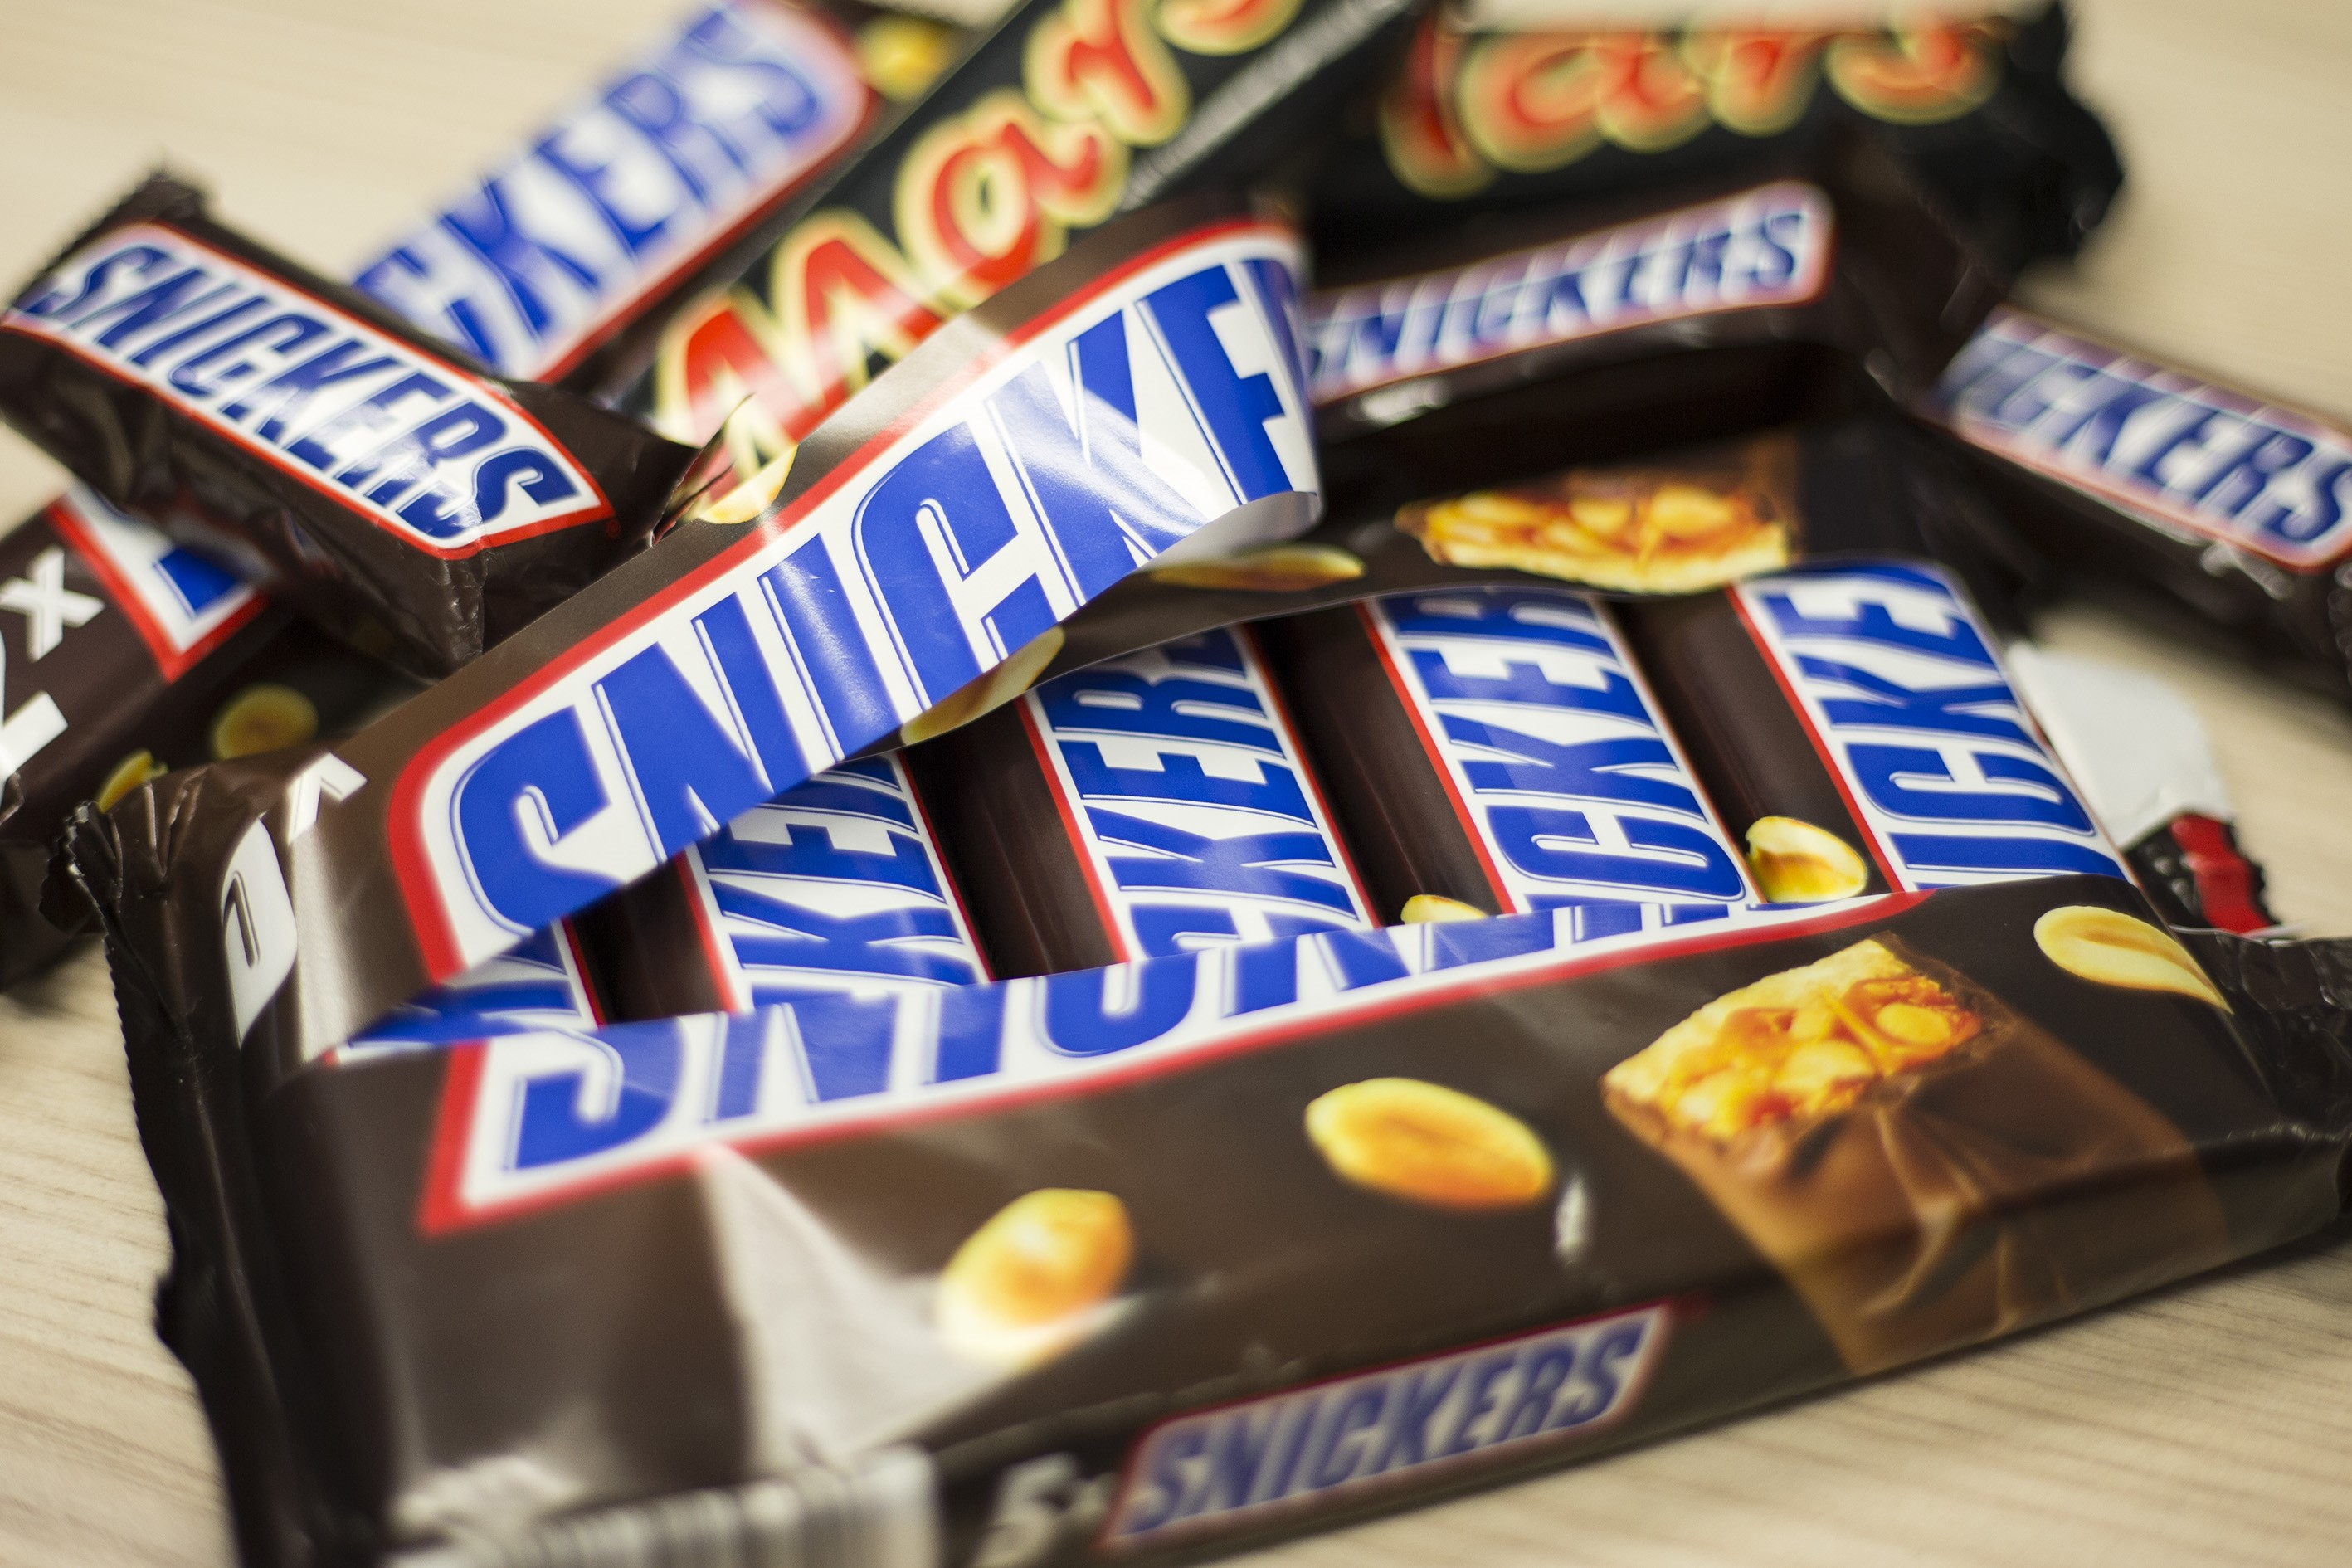snickers: (381, 254, 1298, 945), (381, 324, 1363, 945), (451, 254, 1298, 927), (91, 10, 878, 588), (91, 10, 822, 616), (12, 205, 574, 535), (21, 240, 574, 535), (1746, 528, 2121, 882), (1374, 549, 1746, 891), (1748, 567, 2121, 882), (1120, 1314, 1643, 1536), (1379, 579, 1746, 891), (1914, 289, 2347, 546), (1032, 628, 1353, 962), (1036, 625, 1353, 962), (1914, 301, 2347, 546), (1934, 301, 2347, 546), (1284, 201, 1801, 374), (1307, 201, 1801, 371), (682, 719, 980, 999), (1150, 1314, 1643, 1472), (696, 747, 980, 999), (1284, 252, 1802, 374), (1150, 1346, 1647, 1472)
